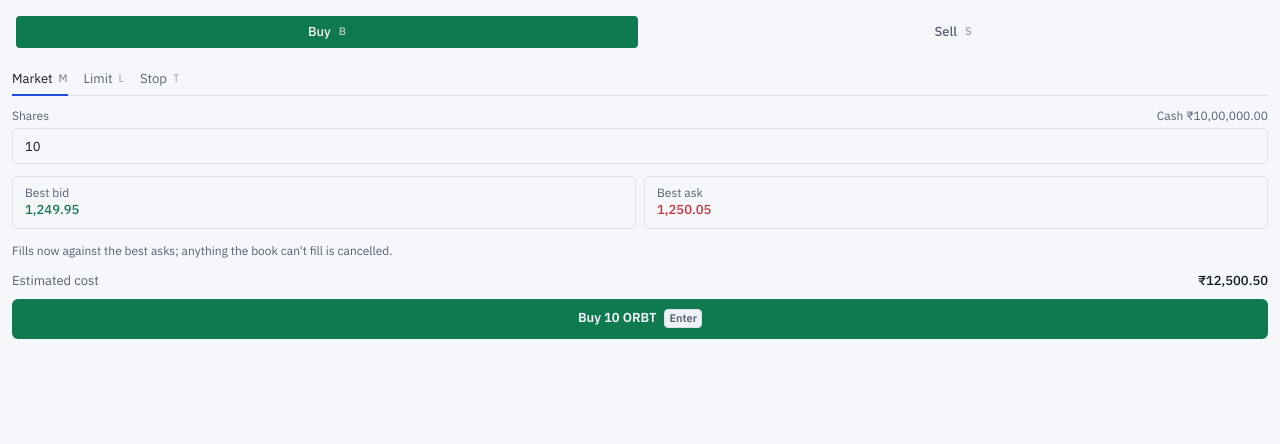
Test case: OrderTicket › checks each field as it is typed › names the two nearest valid prices for an off-tick price
This screenshot has width=1280, height=444.
Type keys "l"
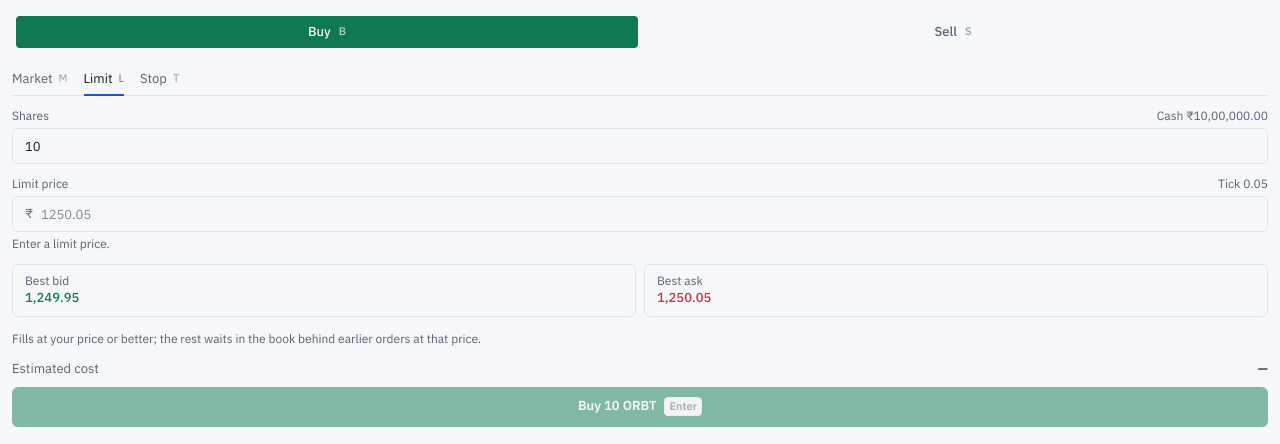
Type "1250.07" into the field labelled "Limit price Tick 0.05 ₹ Enter a limit price.".
click(650, 214); type("1250.07")  # box [33,197,1267,231]
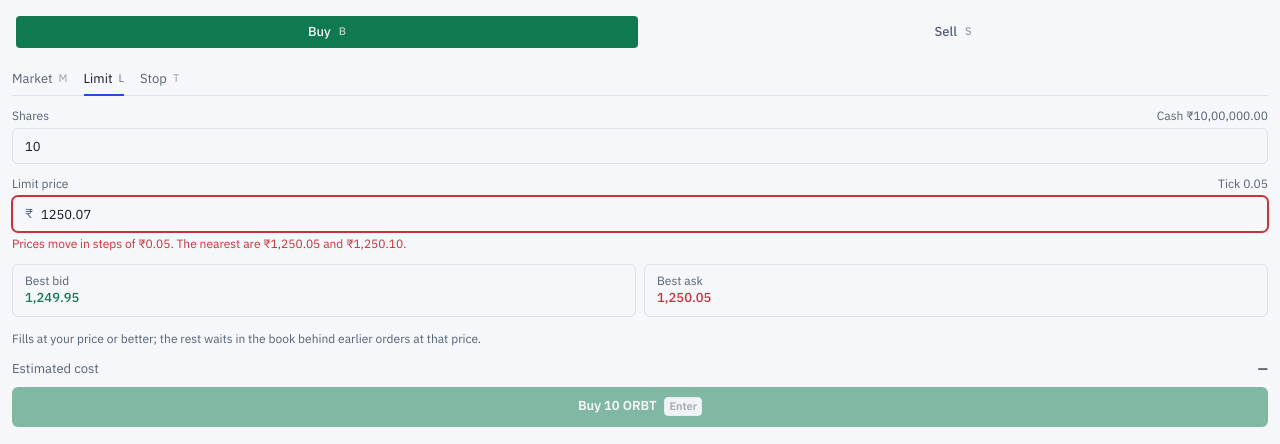
Now the button "Buy 10 ORBT Enter" is disabled, box [12,387,1268,427]
Replace the text in the field labelled "Limit price" with "1250.10" at (650, 214), box [33,197,1267,231]
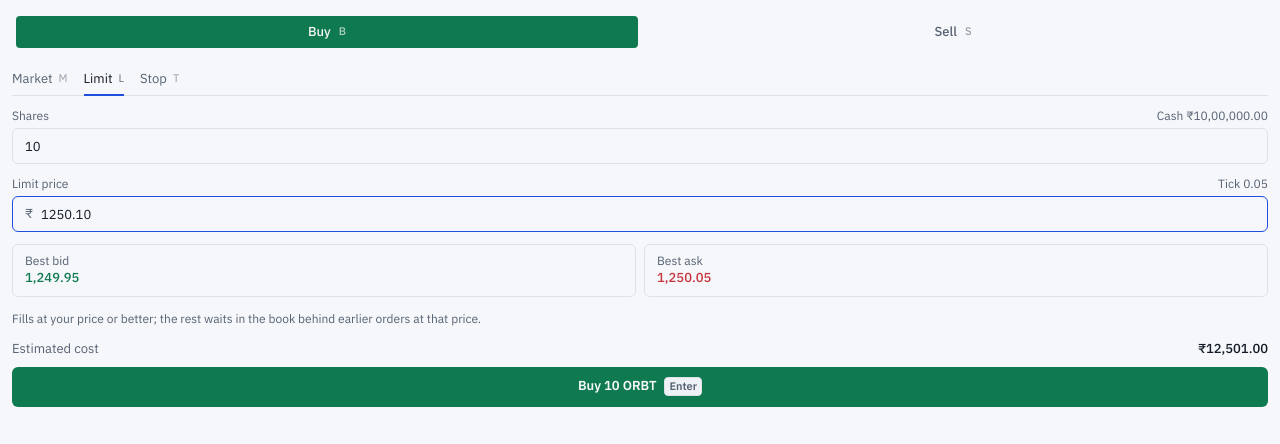
Now the button "Buy 10 ORBT Enter" is enabled, box [12,367,1268,407]
